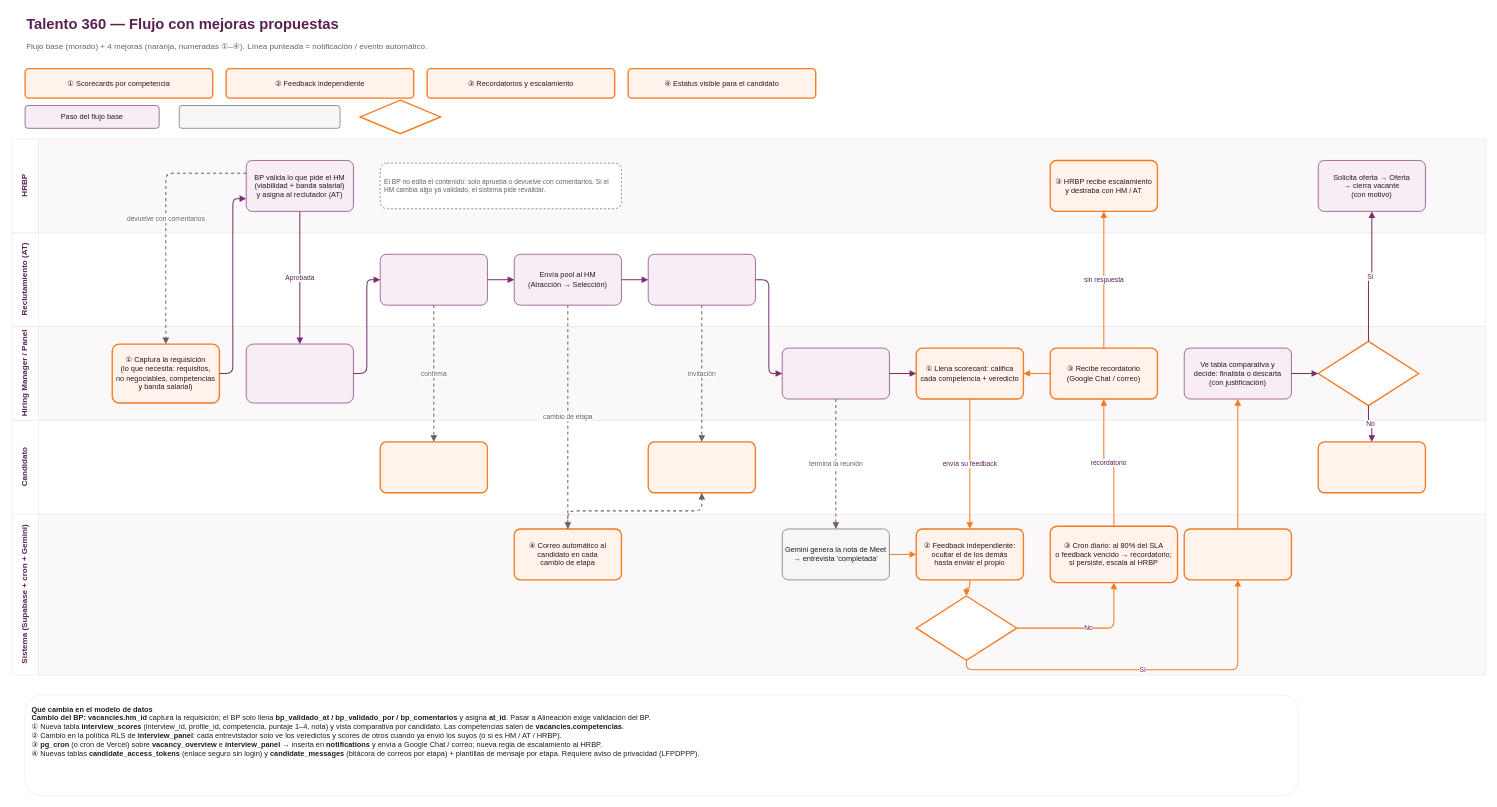
Image size: 1497x807. Some labels were removed from this diagram. The centre of each missing label's shape, as x and y in pixels:
Acción automática del sistema: the point at 259,116
Agenda entrevista (Calendar + Meet): the point at 701,279
Alineación: AT y HM afinan la búsqueda (sistema notifica a AT, HM y solicitante): the point at 299,373
Alta de candidatos + carga de CV (Búsqueda): the point at 433,279
Decisión: the point at 400,116
Realiza la entrevista: the point at 835,373
¿Enviaron todos?: the point at 966,628
¿Finalista?: the point at 1368,373
② Desbloquea feedback de todos + tabla comparativa de scorecards: the point at 1237,554
④ Recibe confirmación y enlace de estatus (sin login): the point at 433,467
④ Recibe invitación a la entrevista y actualizaciones de estatus por correo: the point at 701,467
④ Recibe resultado final y cierre del proceso: the point at 1371,467
